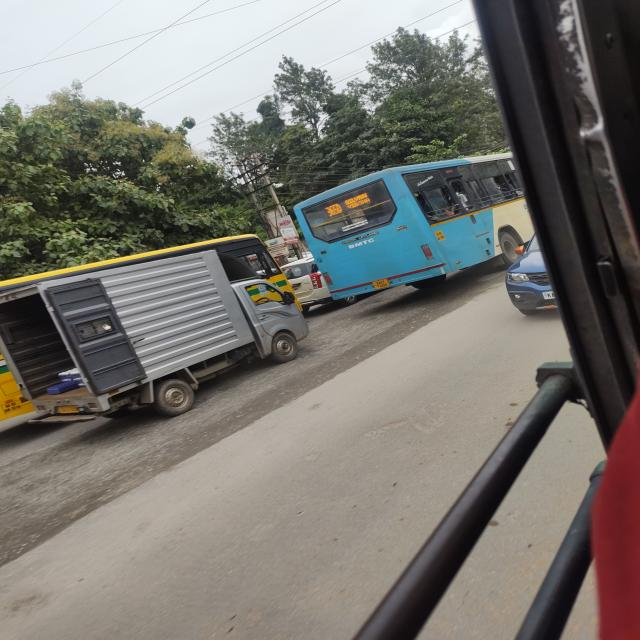bus: (288, 144, 546, 311)
display: (320, 193, 370, 216)
dnumber: (324, 203, 342, 216)
